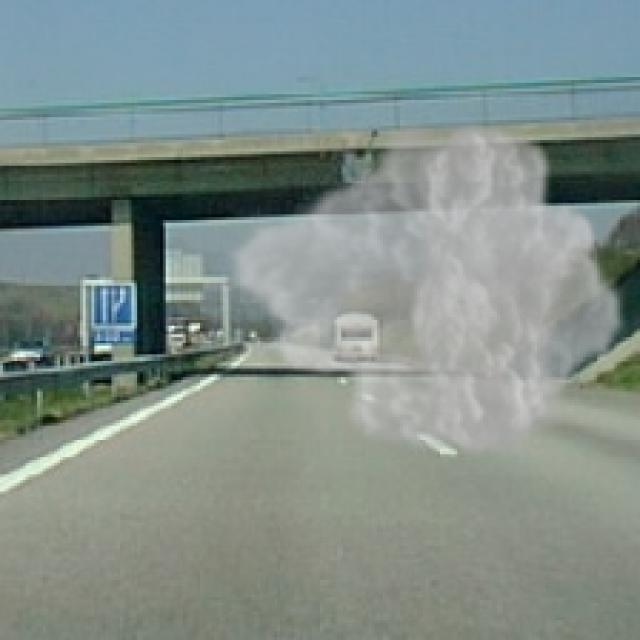Smoke: (222, 114, 628, 466)
